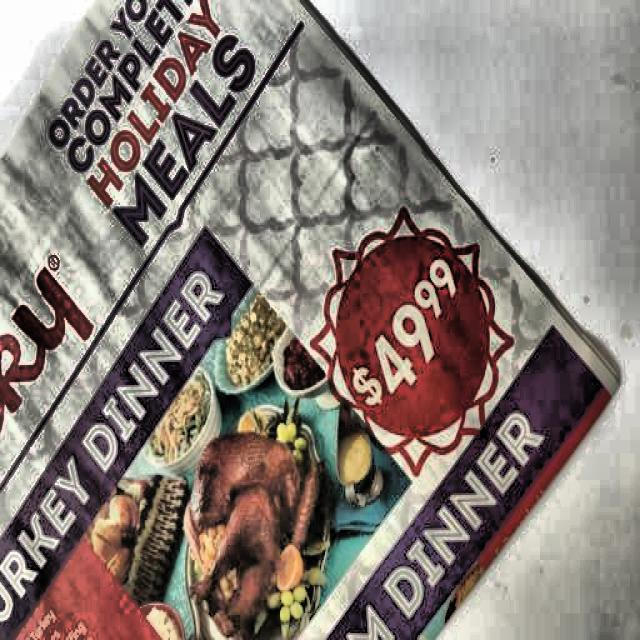paper: (0, 0, 624, 640)
